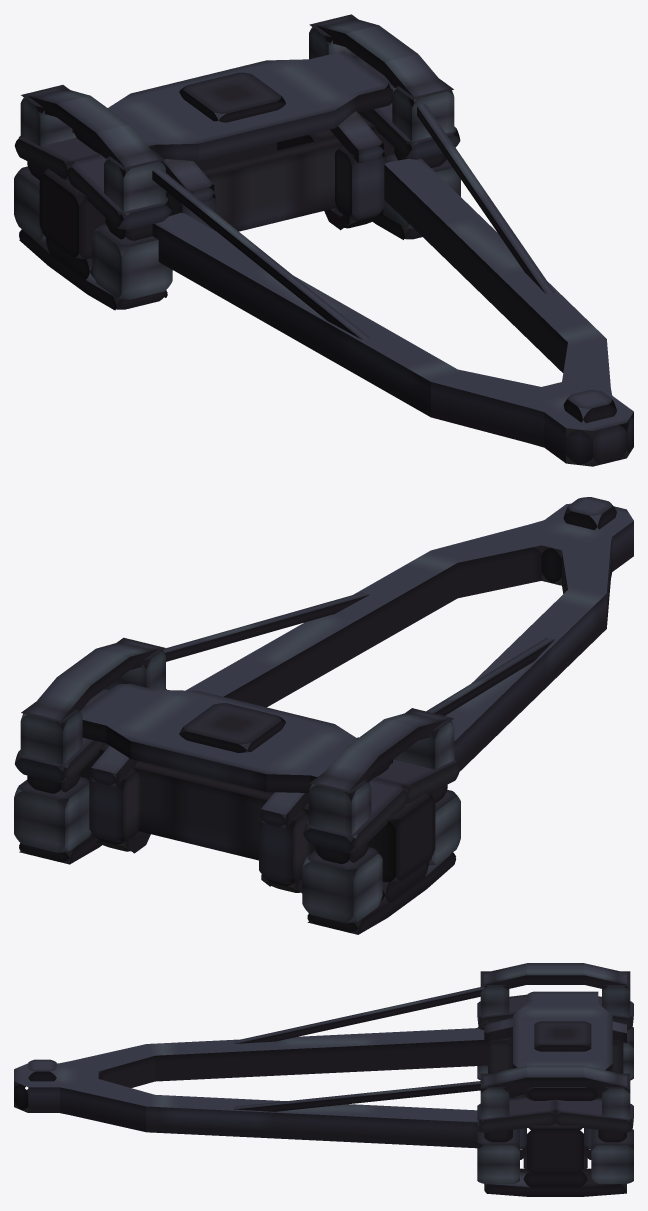
File: qj_guide_frame.obj
3 renders of one model, top to bottom at view 1: azimuth 30°, elevation 25°; view 2: azimuth 150°, elevation 25°; view 3: azimuth 270°, elevation 25°, orthographic. The views are drawn at different scales.
Visible parts, largest first — view 1: cube; view 2: cube; view 3: cube.
Boxes of the visible parts, <box> form: cube: <box>14,14,633,466</box>; cube: <box>14,497,633,934</box>; cube: <box>14,963,633,1196</box>.
Bounding box in the file's own units: 1.31 × 0.5625 × 2.72.
